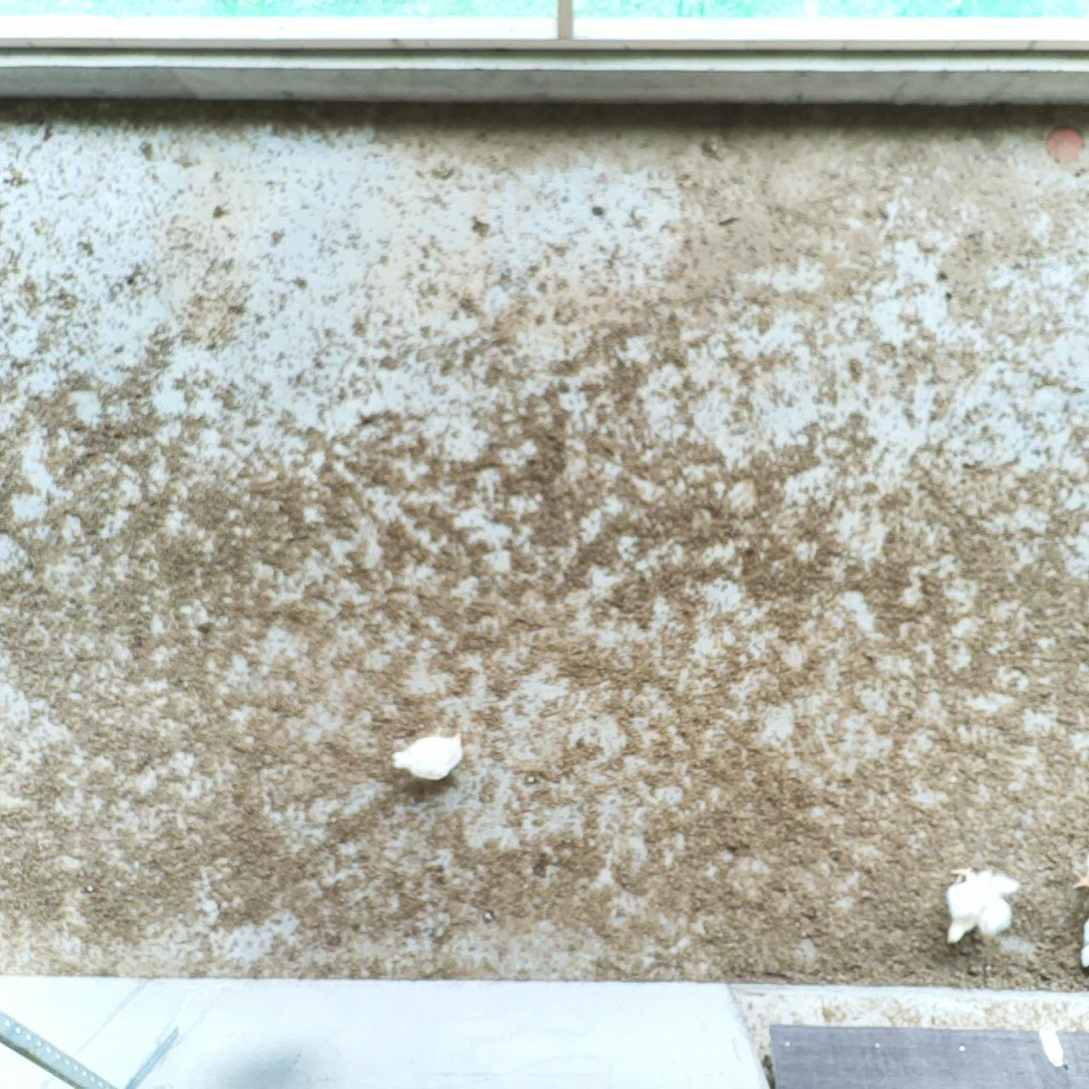chicken: (937, 859, 1021, 952), (383, 724, 474, 789)
